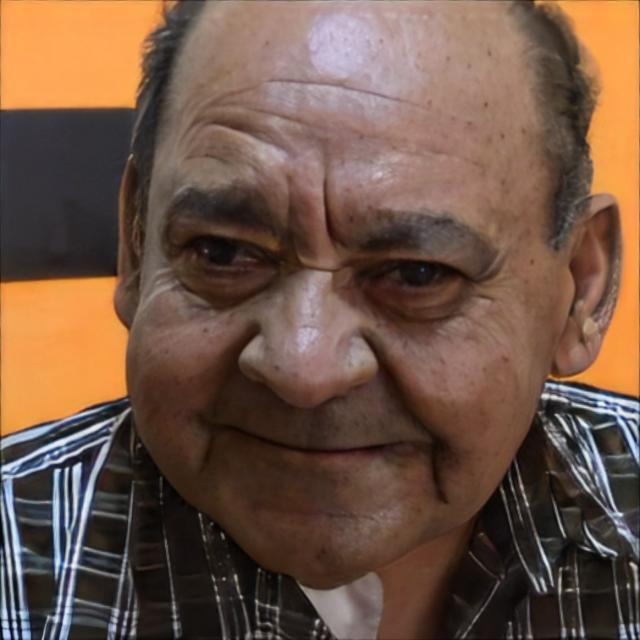happy: (120, 36, 560, 579)
